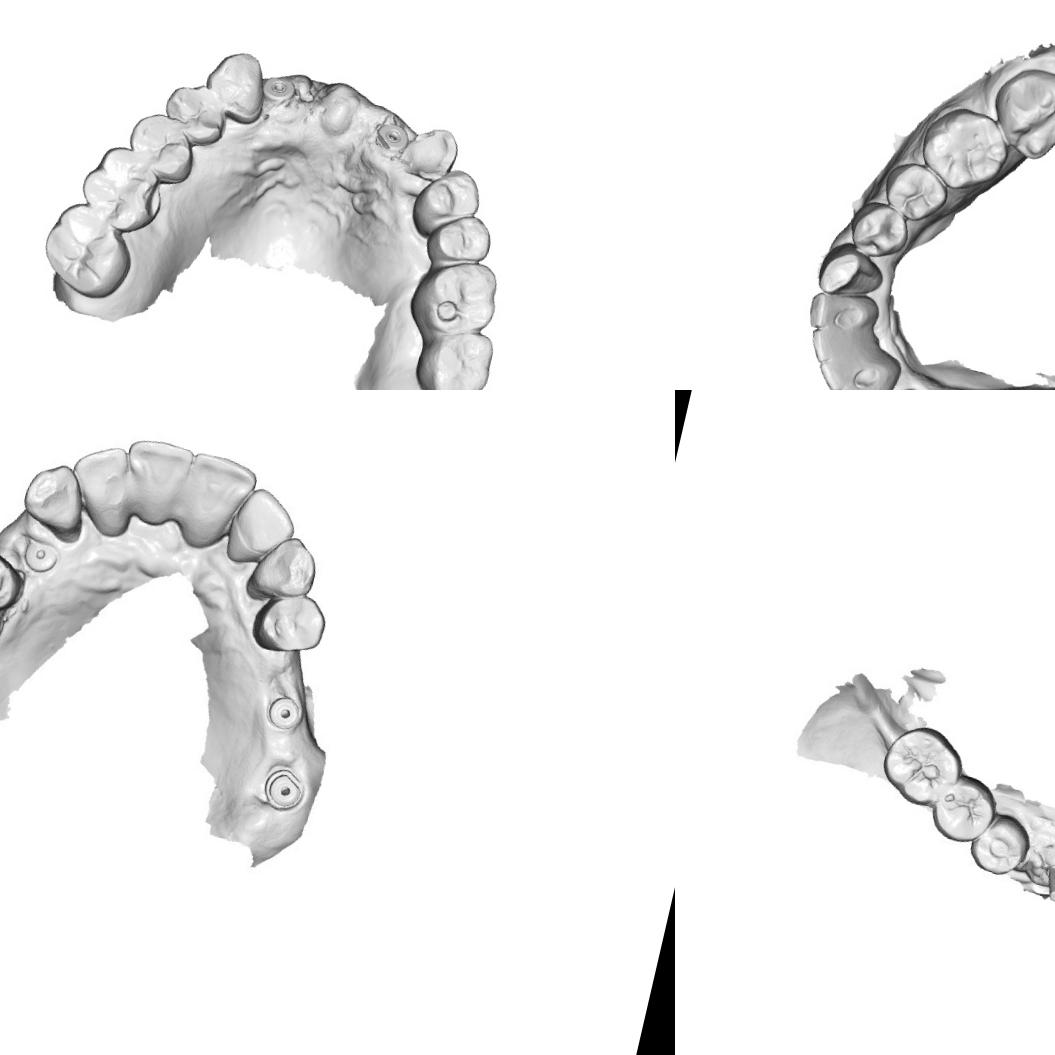abutment: (1035, 855, 1055, 911)
canine: (242, 528, 327, 608), (16, 458, 95, 540), (199, 42, 274, 126), (396, 116, 469, 190), (812, 236, 886, 307)
implant: (256, 760, 312, 816), (370, 115, 411, 162), (21, 534, 65, 576), (266, 690, 306, 731), (260, 68, 298, 110)
incisor: (114, 434, 200, 538), (175, 450, 258, 548), (66, 442, 148, 536), (219, 482, 300, 571), (803, 317, 910, 378), (810, 340, 908, 390), (803, 284, 882, 344), (827, 372, 894, 390)
molar: (34, 196, 142, 306), (913, 98, 1020, 200), (402, 250, 508, 349), (71, 138, 173, 238), (875, 717, 971, 814), (981, 57, 1055, 171), (408, 321, 499, 390), (926, 769, 1001, 849)
premolar: (406, 161, 490, 248), (246, 585, 331, 668), (118, 106, 204, 188), (153, 75, 234, 153), (874, 153, 952, 228), (422, 205, 500, 276), (841, 194, 917, 266), (966, 808, 1035, 882), (0, 544, 28, 613)
